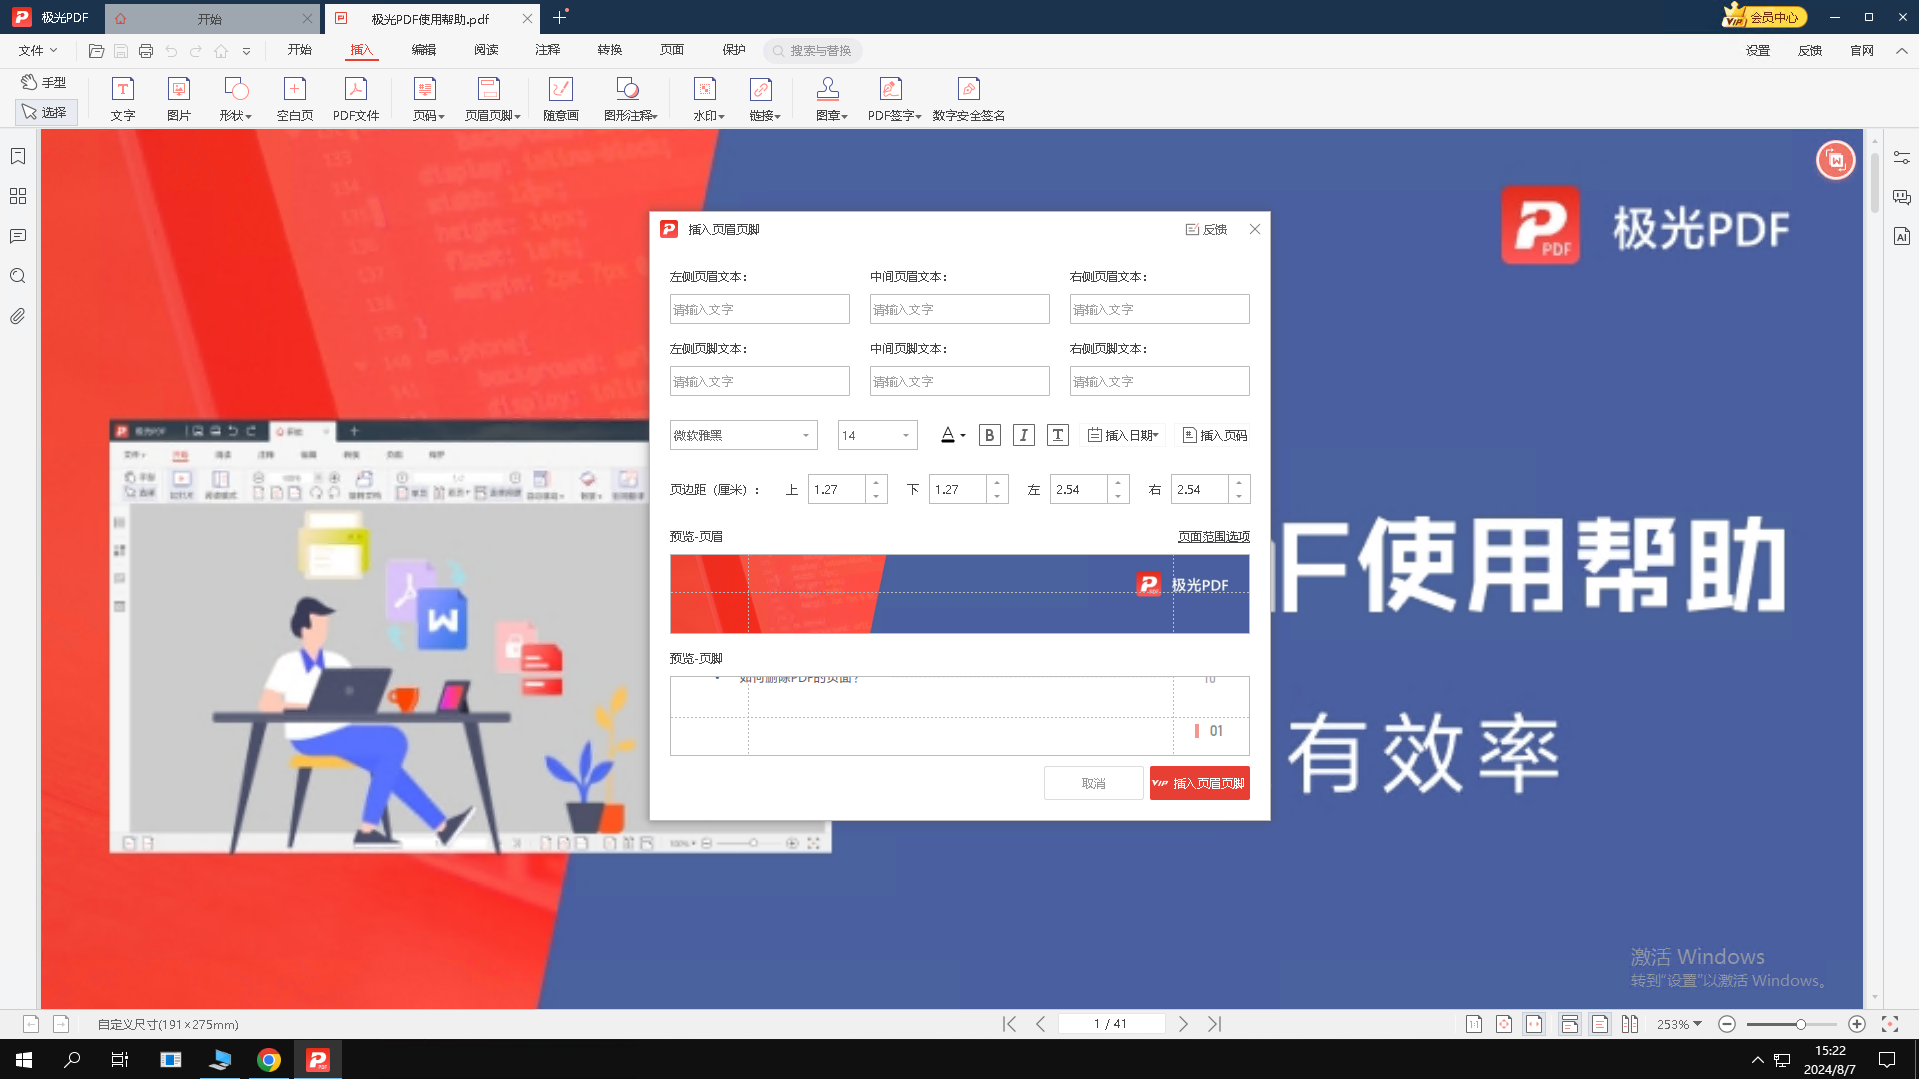Clickable: (1061, 287, 1263, 335), (865, 357, 1060, 403), (1065, 360, 1256, 406), (867, 287, 1058, 332), (663, 364, 862, 401), (666, 290, 857, 327), (670, 416, 826, 457), (1151, 761, 1252, 801), (1040, 764, 1143, 802), (832, 412, 927, 452), (1048, 469, 1140, 509), (803, 469, 890, 507), (1177, 422, 1255, 458), (1170, 472, 1257, 505), (1077, 423, 1170, 453), (1169, 522, 1259, 553), (929, 473, 1014, 505), (1178, 215, 1234, 250), (936, 419, 977, 457), (1232, 215, 1269, 249)
Root: (648, 211, 1271, 819)
Selectable: (1002, 406, 1037, 458), (971, 412, 1010, 460), (1039, 415, 1077, 458)
